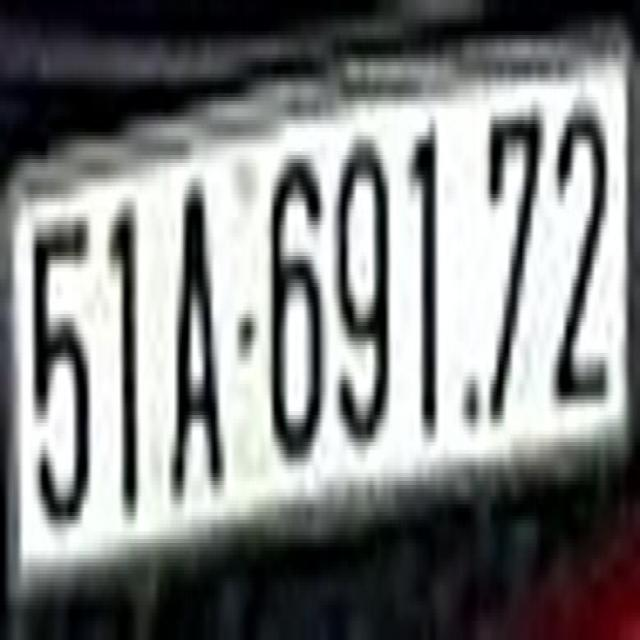1: (105, 210, 148, 528), (407, 120, 437, 454)
2: (556, 105, 607, 419)
5: (32, 213, 92, 528)
6: (266, 159, 324, 465)
7: (487, 101, 541, 434)
9: (334, 143, 392, 454)
A: (169, 182, 228, 504)
